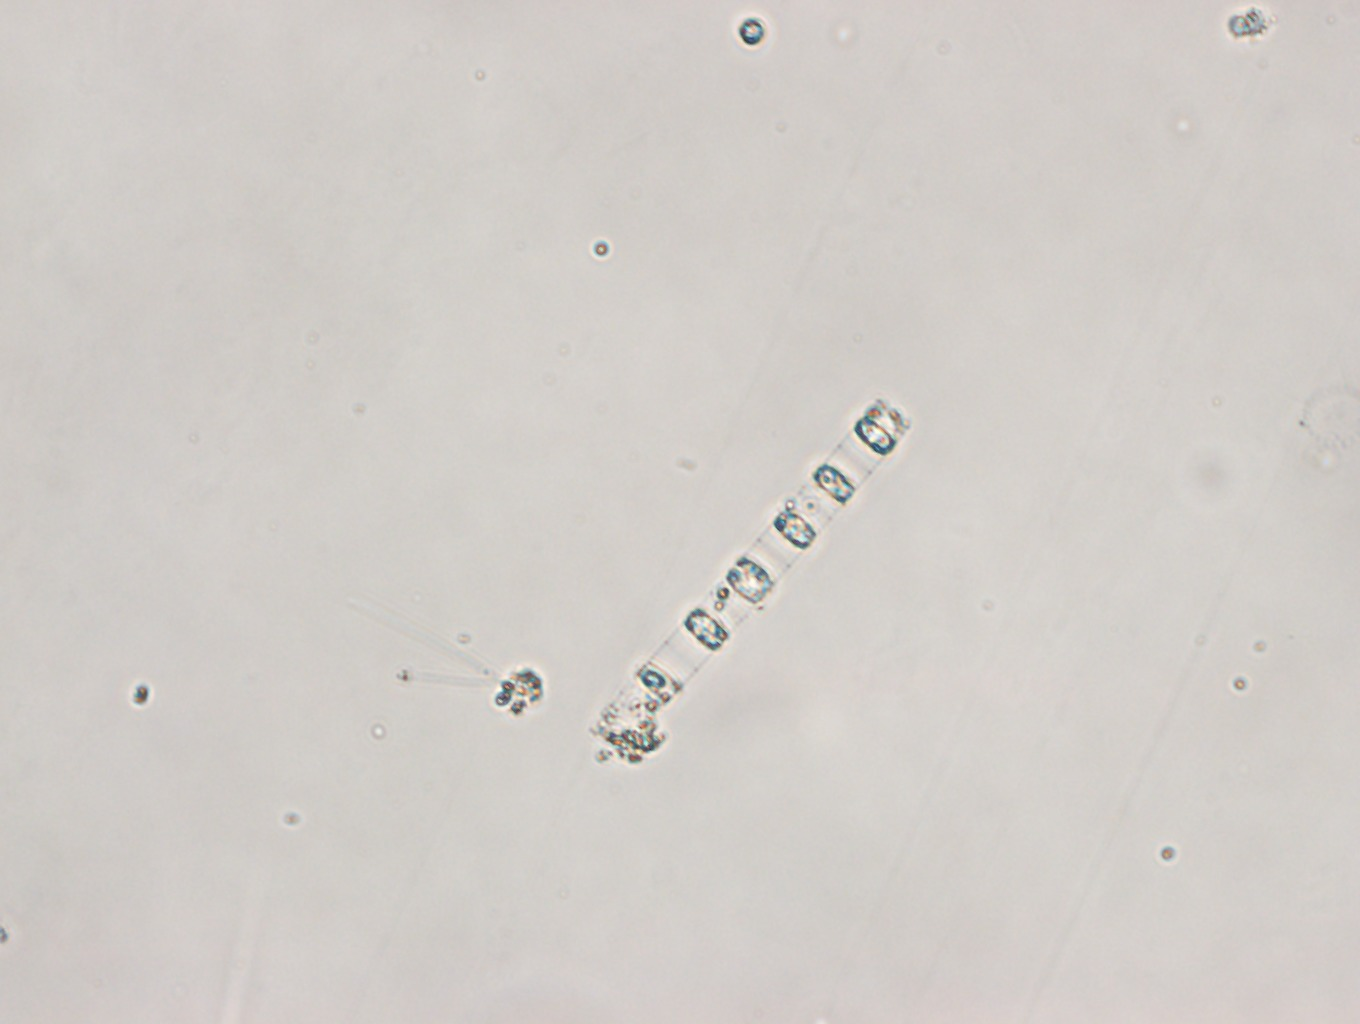skeletonema: (591, 394, 910, 763)
